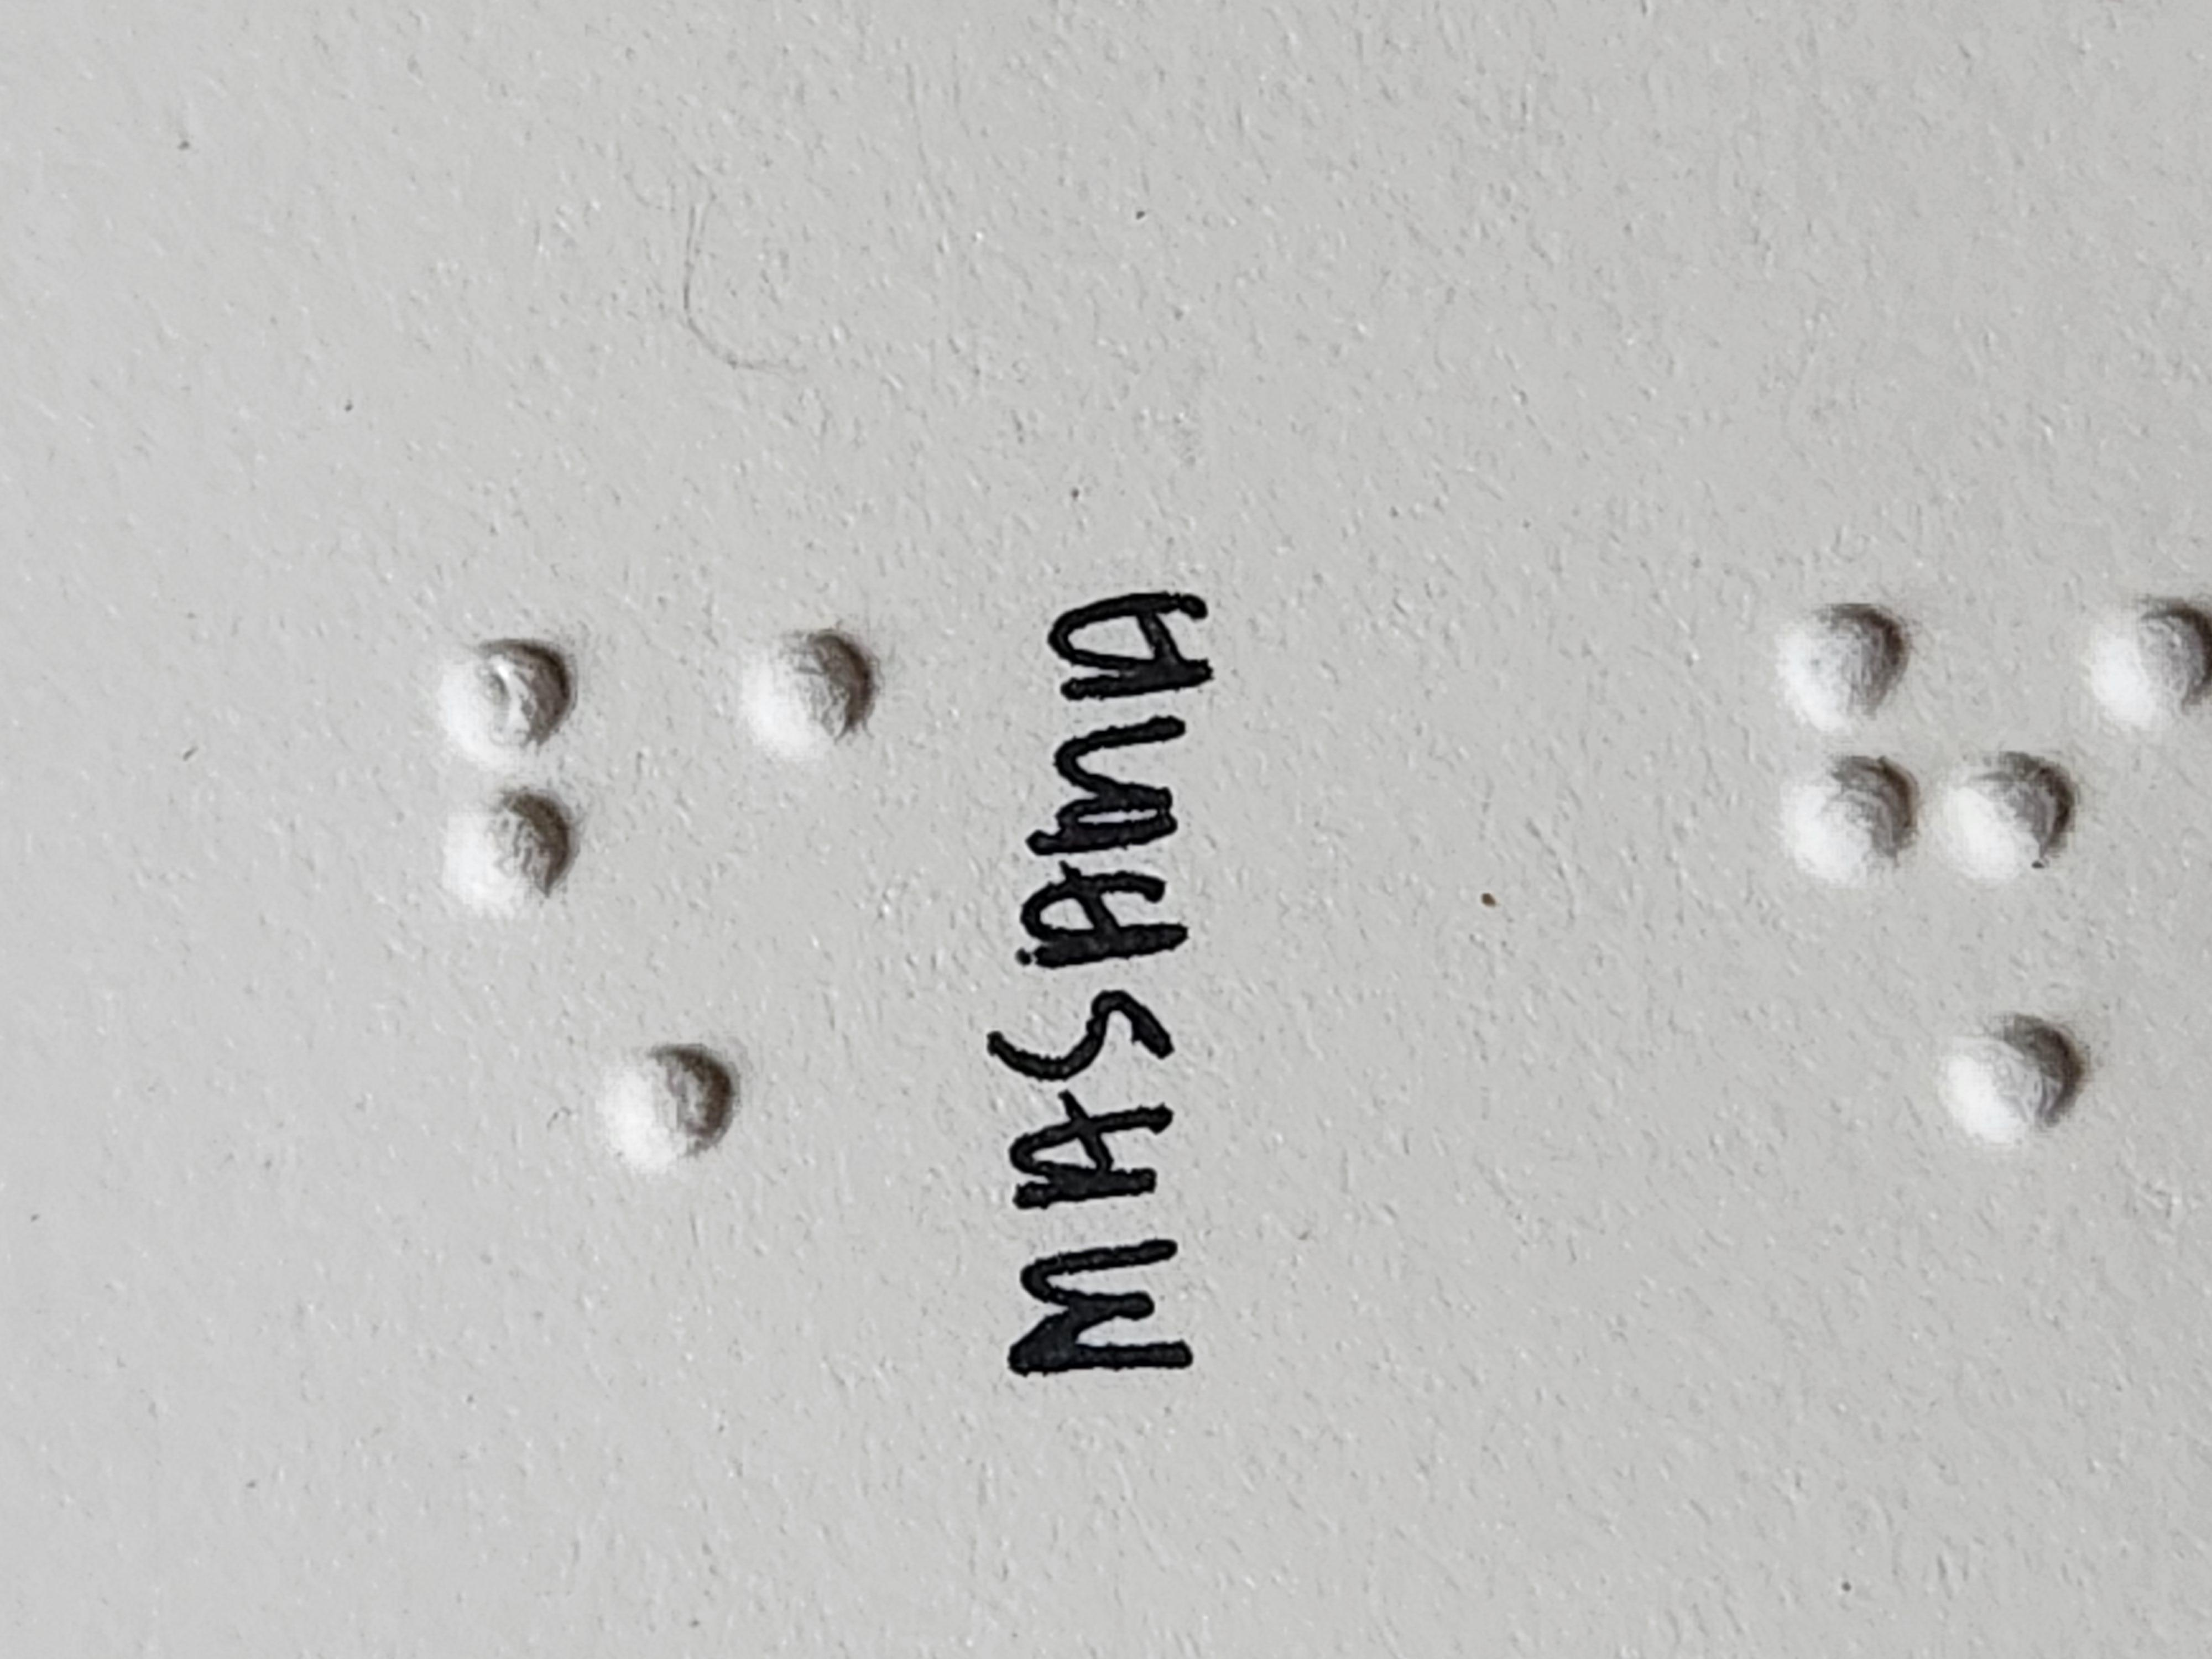dot_5: (460, 331, 833, 662)
two_cell_non_alphabet_masama: (996, 324, 1369, 657)
